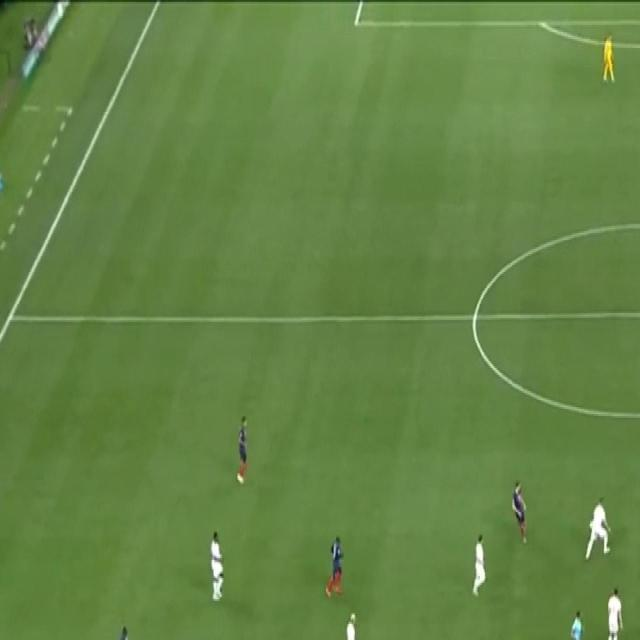player-white: (584, 493, 613, 561), (322, 531, 346, 602), (208, 526, 226, 604), (510, 477, 528, 551), (605, 581, 624, 640), (600, 27, 618, 89), (471, 529, 487, 597), (236, 411, 250, 487), (560, 606, 587, 640), (341, 609, 364, 640), (115, 613, 140, 640)
